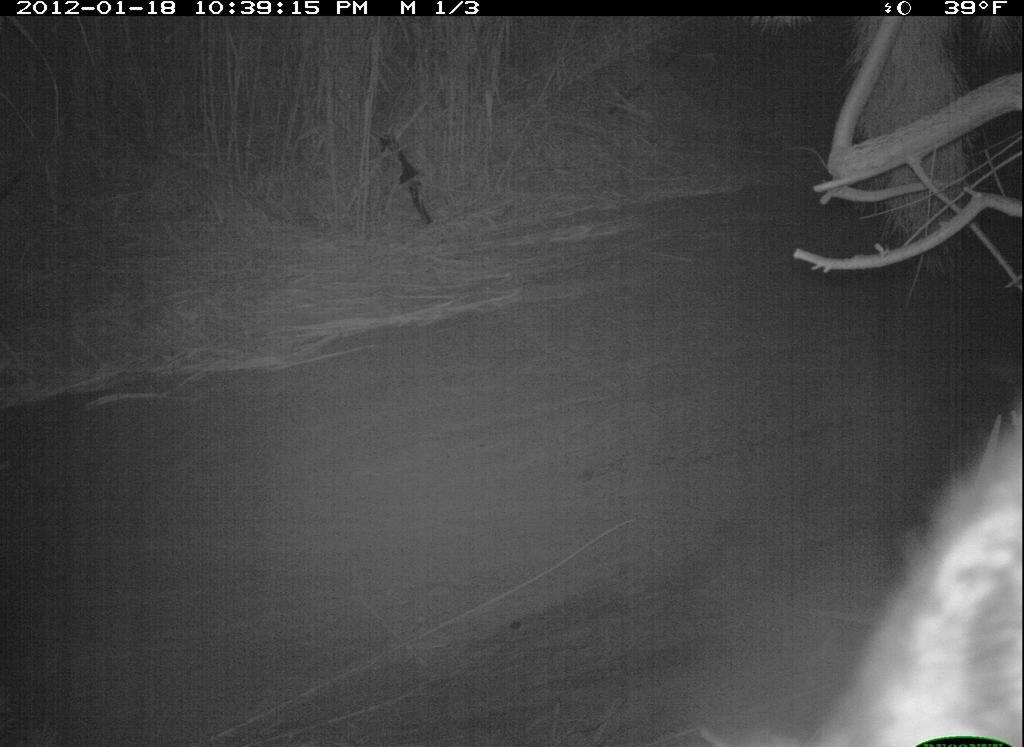raccoon: (797, 344, 1023, 747)
